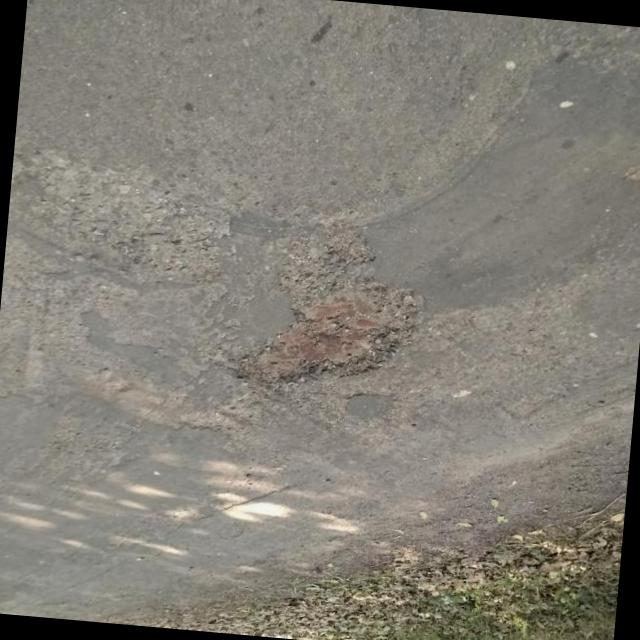pothole: (225, 266, 419, 402)
